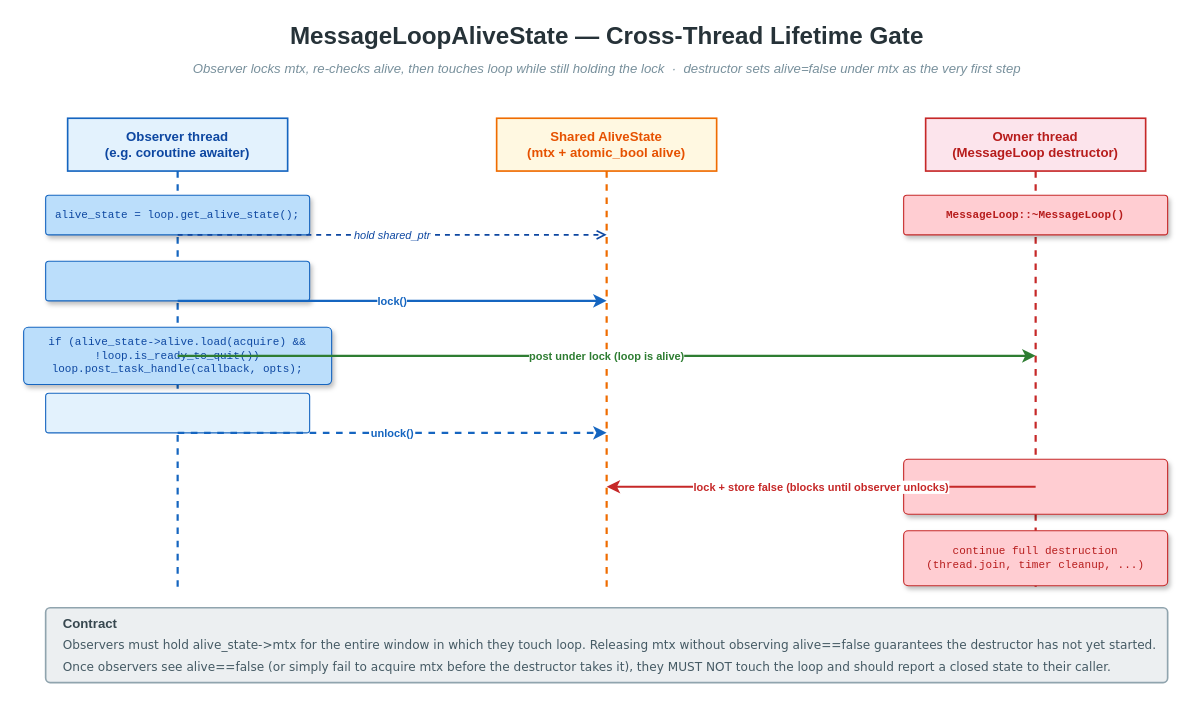
Some shapes in this 1194 by 702 pixel diagram are drawn without their labels. Each missing label, with the centre of its shape:
"lock_guard lock(alive_state->mtx); alive_state->alive.store(false, release);" belongs at point (1036, 488).
"lock_guard out of scope -> unlock();" belongs at point (177, 412).
"std::lock_guard lock(alive_state->mtx);" belongs at point (178, 282).
